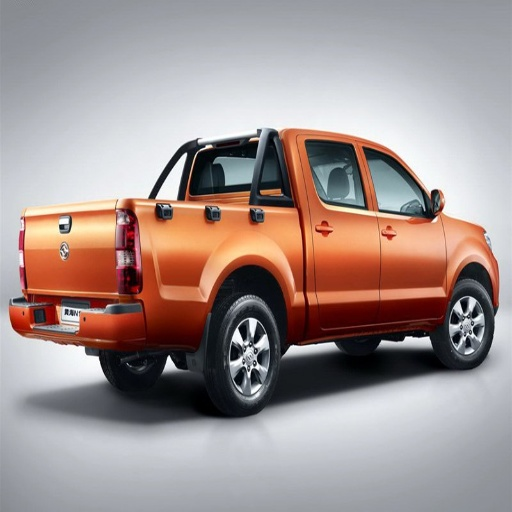_background_: (78, 319, 138, 345)
back_bumper: (194, 145, 256, 192)
back_left_light: (308, 139, 378, 321), (255, 141, 279, 190)
back_right_door: (118, 206, 141, 292)
front_left_light: (362, 142, 446, 319)
tailgate: (26, 194, 303, 347)
trunk: (205, 293, 282, 414), (435, 280, 494, 368), (103, 361, 159, 385)
